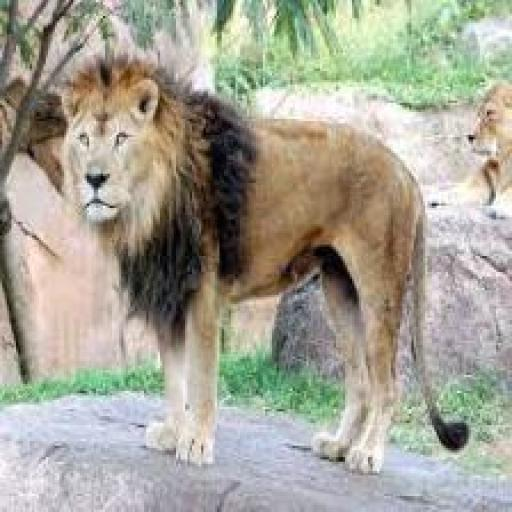lion: (46, 41, 491, 485)
